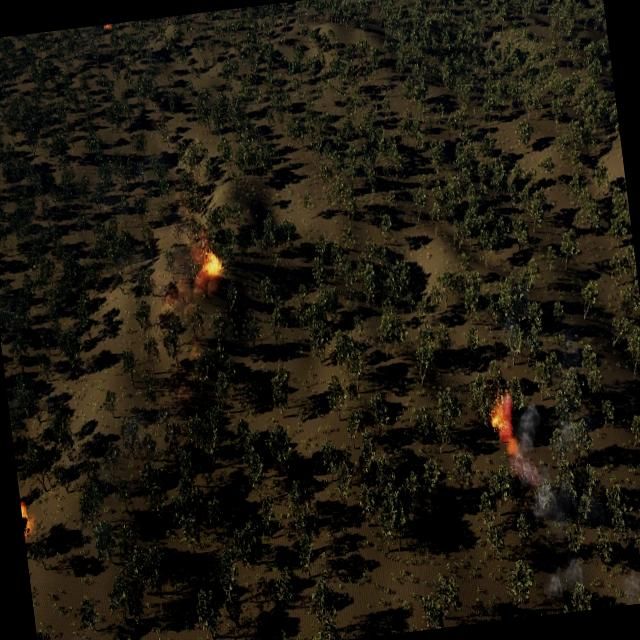fire: (488, 394, 518, 456), (202, 252, 222, 276), (20, 500, 30, 536), (103, 23, 112, 29)
smoke: (503, 397, 599, 608), (153, 229, 229, 405), (620, 571, 640, 604)
